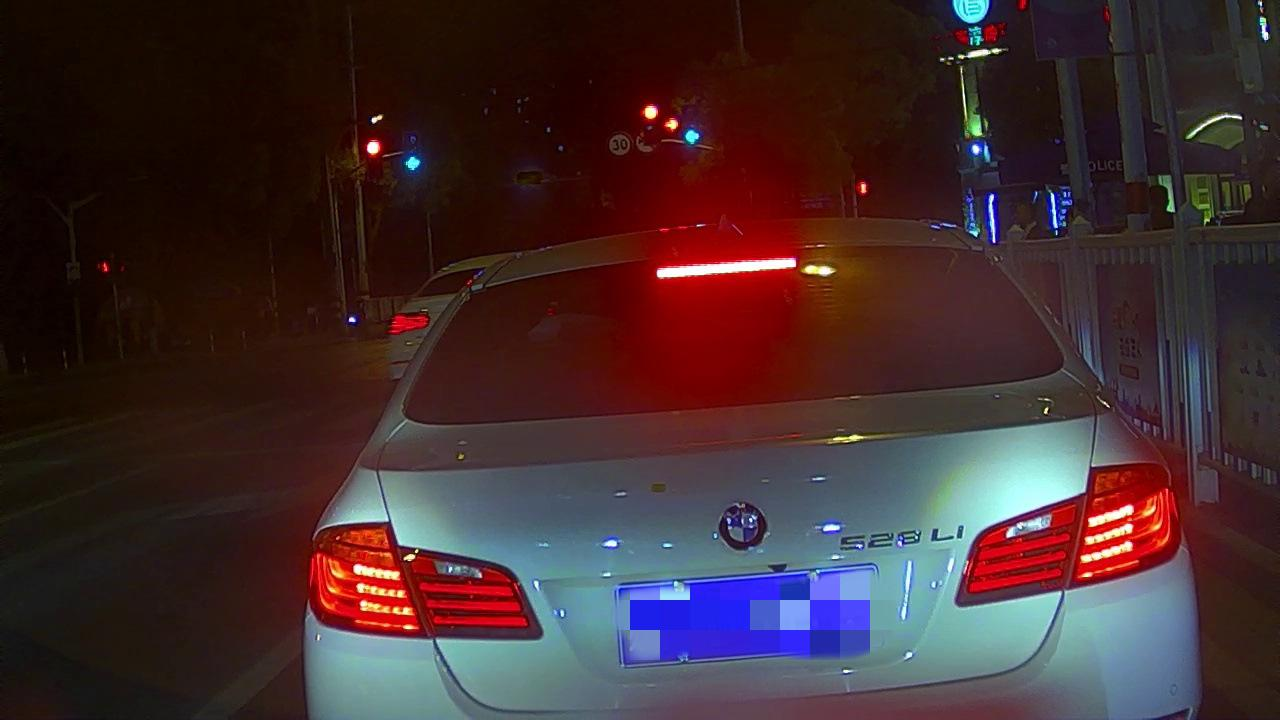traffic_light: (402, 135, 423, 178), (638, 101, 662, 126), (364, 137, 384, 162), (683, 125, 701, 148), (662, 115, 680, 134)
